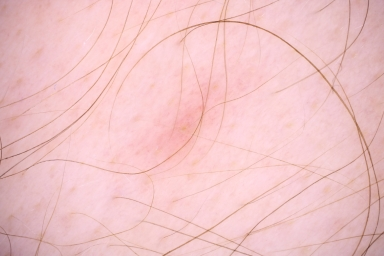nevus: (141, 76, 209, 165)
